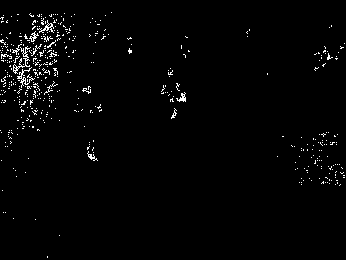person: (70, 86, 113, 163), (160, 64, 191, 123)
